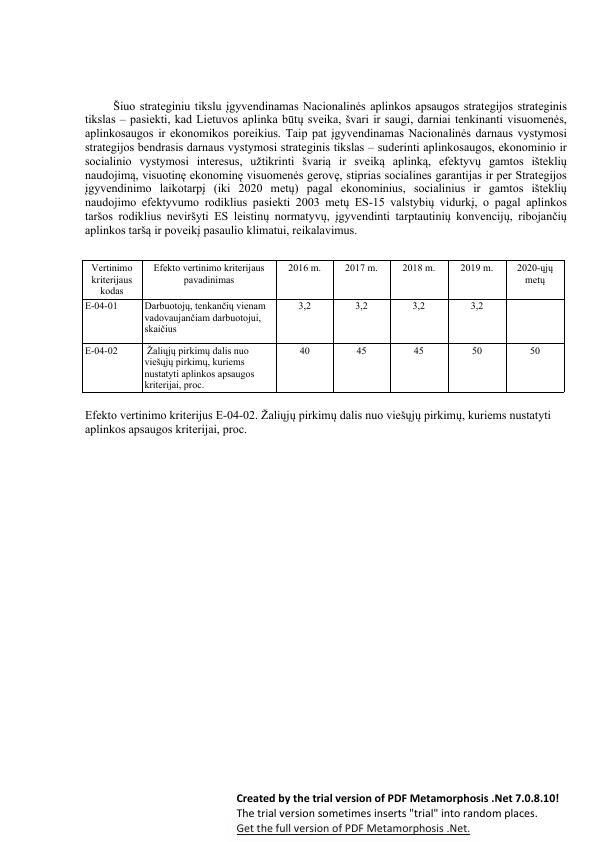table: (78, 258, 567, 395)
text: (82, 96, 573, 242), (236, 789, 563, 837), (83, 405, 553, 438)
